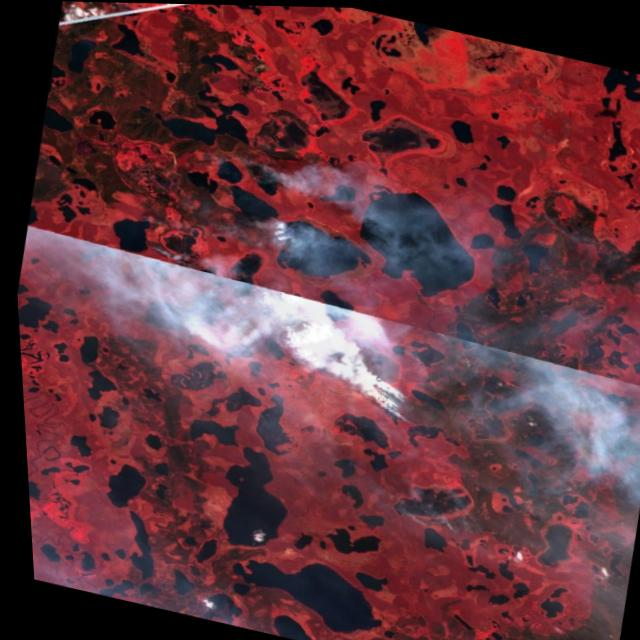fire: (96, 83, 316, 289), (381, 476, 509, 551), (348, 370, 441, 436)
